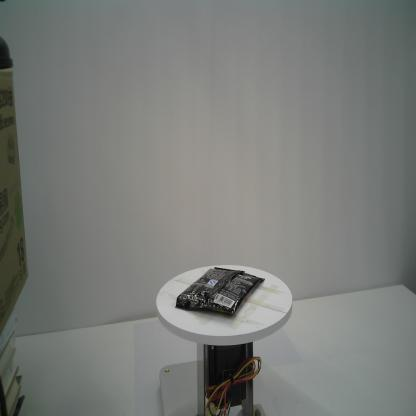Instant Drink: (175, 266, 265, 315)
